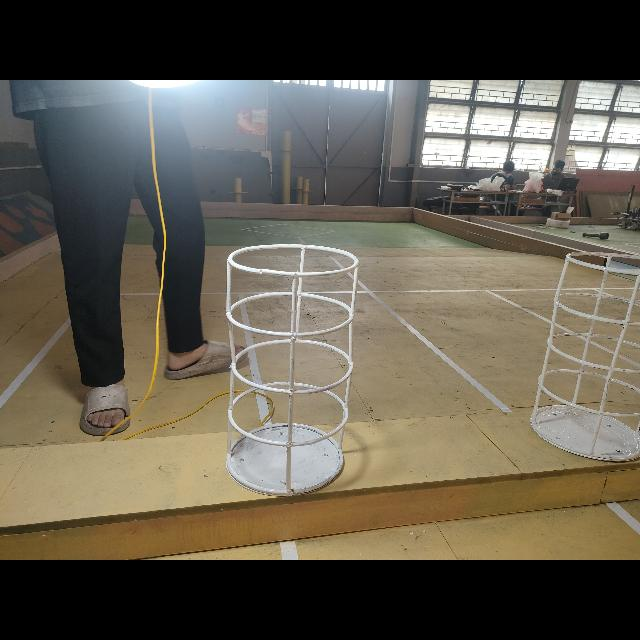S: (216, 240, 360, 496), (528, 244, 640, 474)
